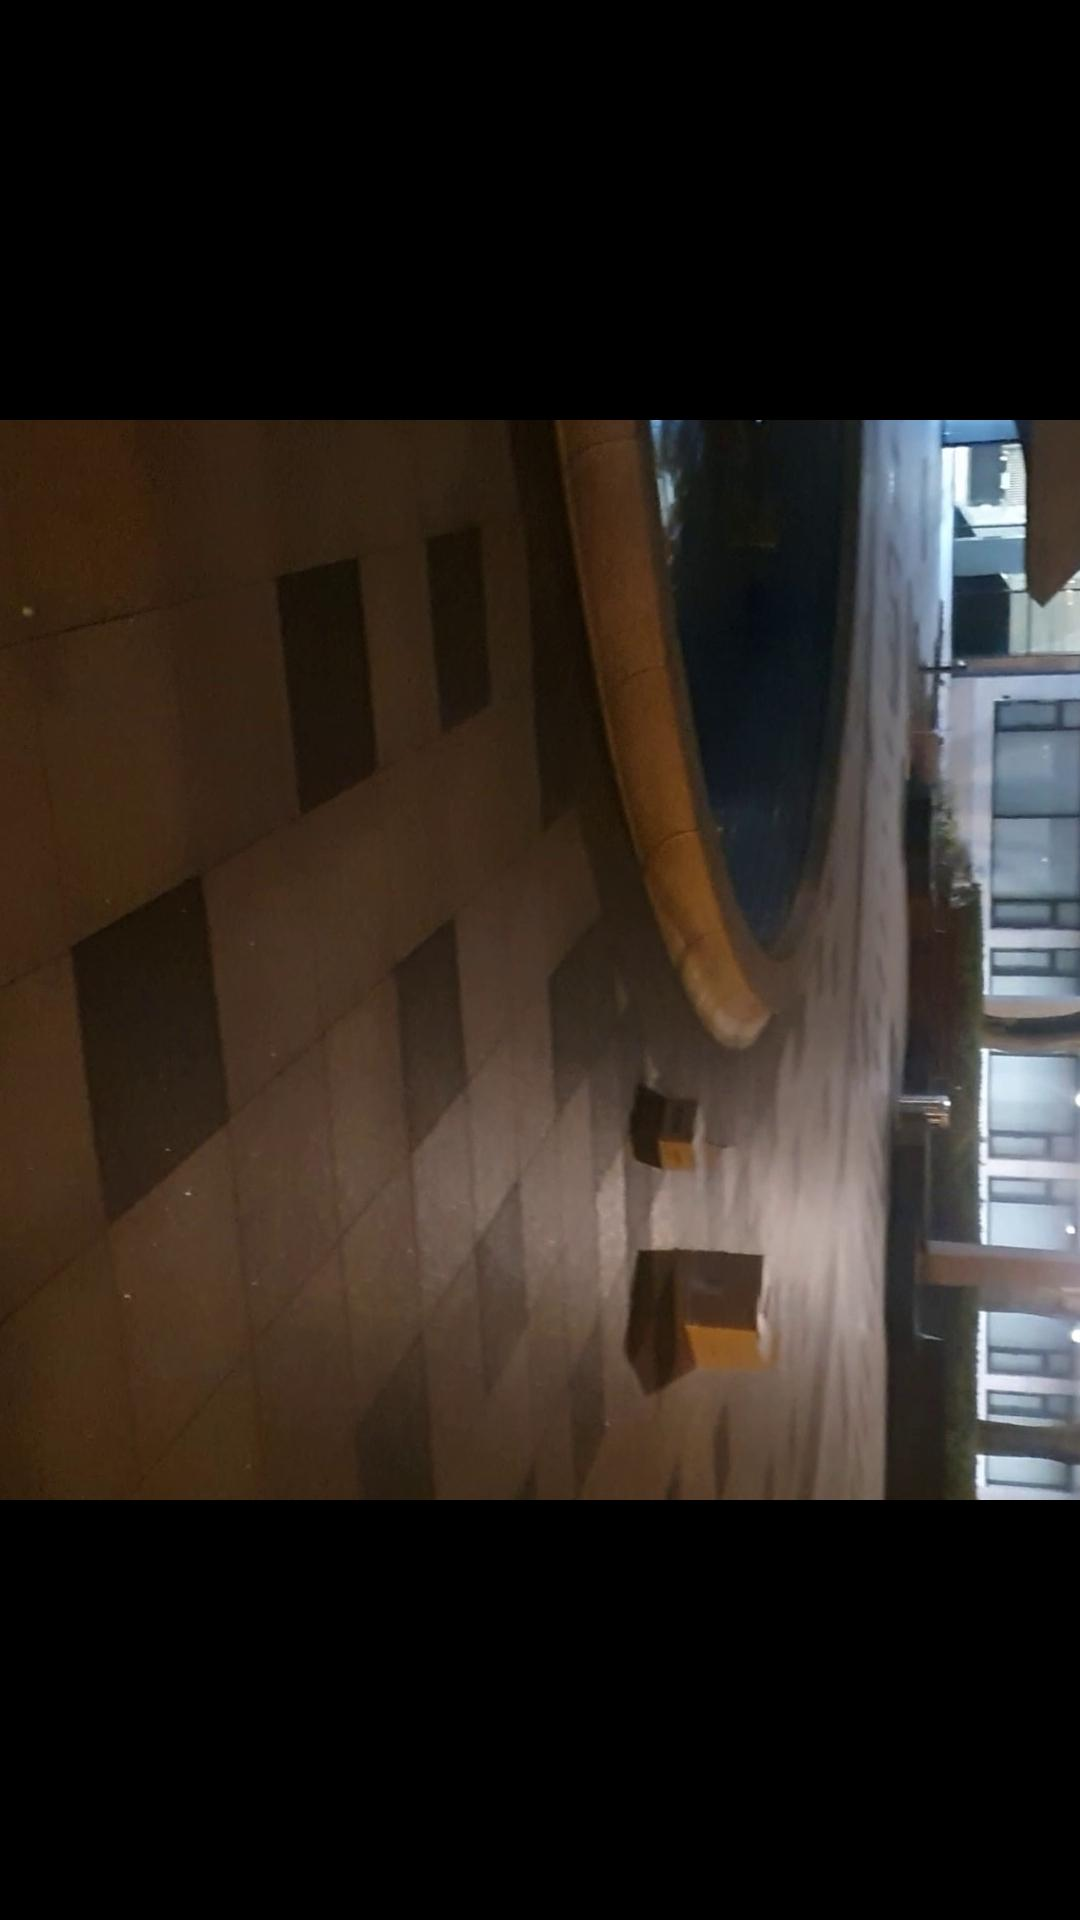Box: (659, 1247, 781, 1387), (636, 1093, 717, 1189)
